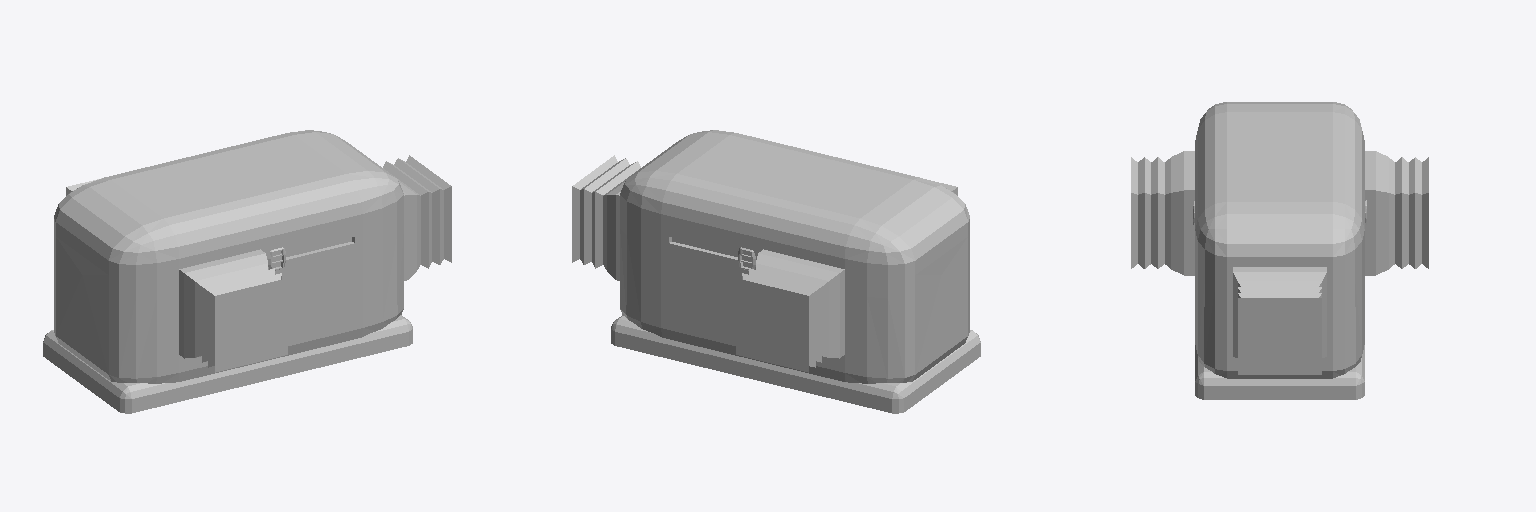
The model's file is module3C.obj.
3 renders of one model, left to right at view 1: azimuth 30°, elevation 25°; view 2: azimuth 150°, elevation 25°; view 3: azimuth 270°, elevation 25°, orthographic.
Visible parts, largest first — view 1: Cube; view 2: Cube; view 3: Cube.
Boxes of the visible parts, x1=… form: Cube: x1=43, y1=130, x2=451, y2=413; Cube: x1=572, y1=130, x2=980, y2=413; Cube: x1=1131, y1=102, x2=1428, y2=399.
Bounding box in the file's own units: 9.52 × 4.48 × 7.03.